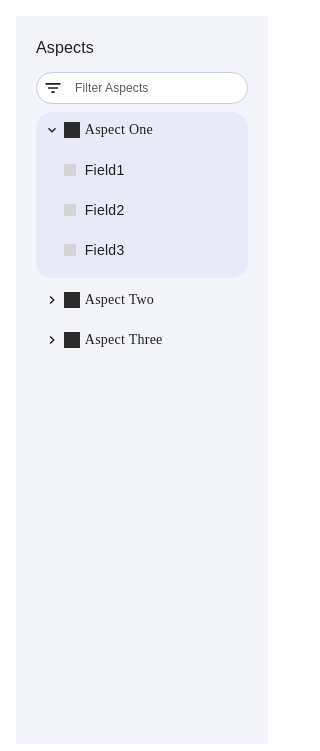
Scenario: SideNav › expand/collapse functionality › should expand annotation item when clicked
// First item is already expanded, click on second annotation to expand it
Click the button "Aspect Two" at (99, 300), box [44, 292, 154, 308]
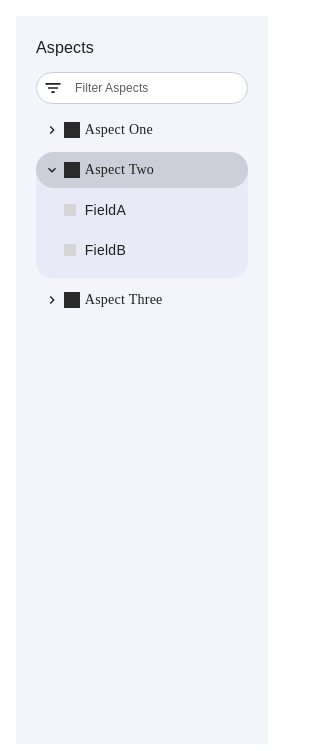
Expected: the text "FieldA" is shown, [85, 202, 126, 218]
Expected: the text "FieldB" is shown, [85, 242, 126, 258]
